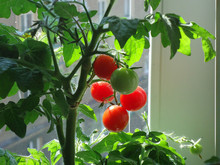tomato: (77, 28, 167, 146)
